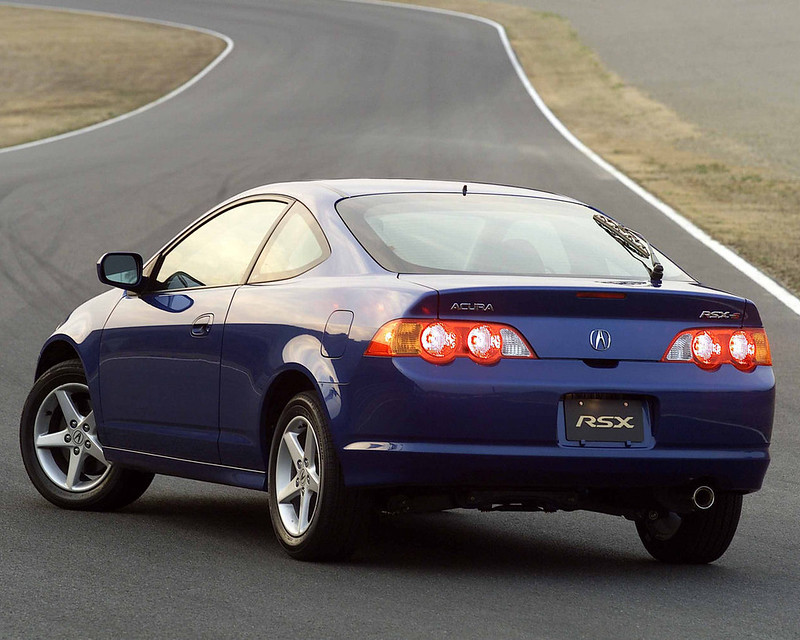car: (23, 178, 785, 575)
